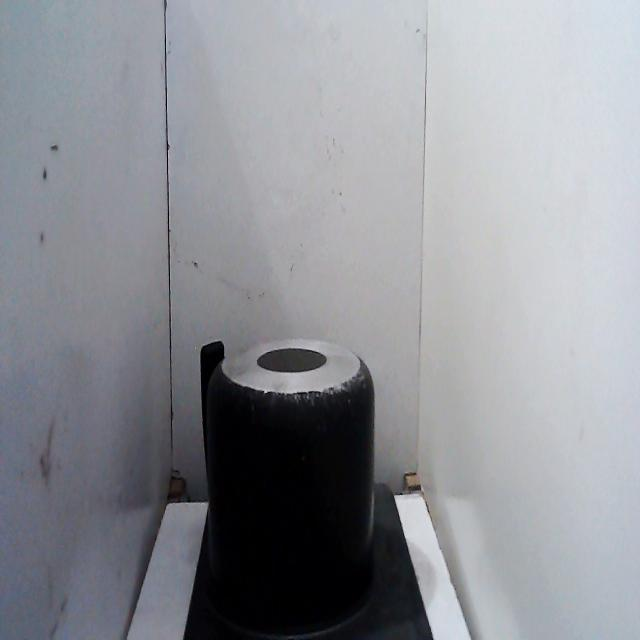metal: (191, 330, 386, 640)
